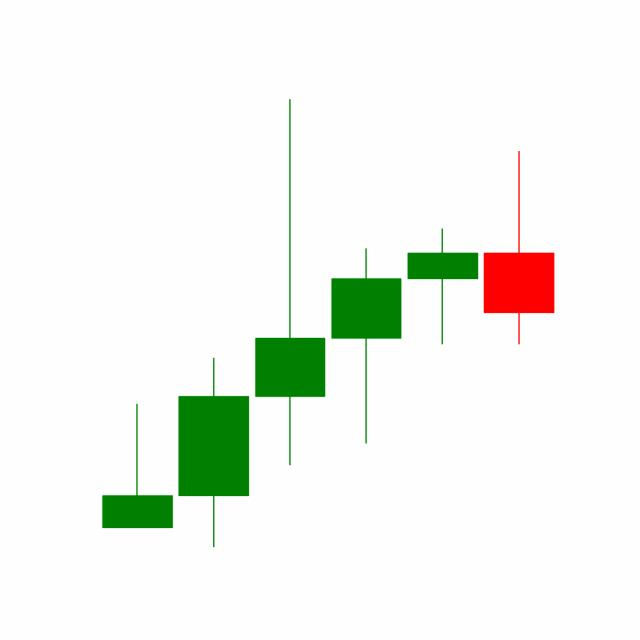Dragonfly Doji: (403, 227, 481, 346)
